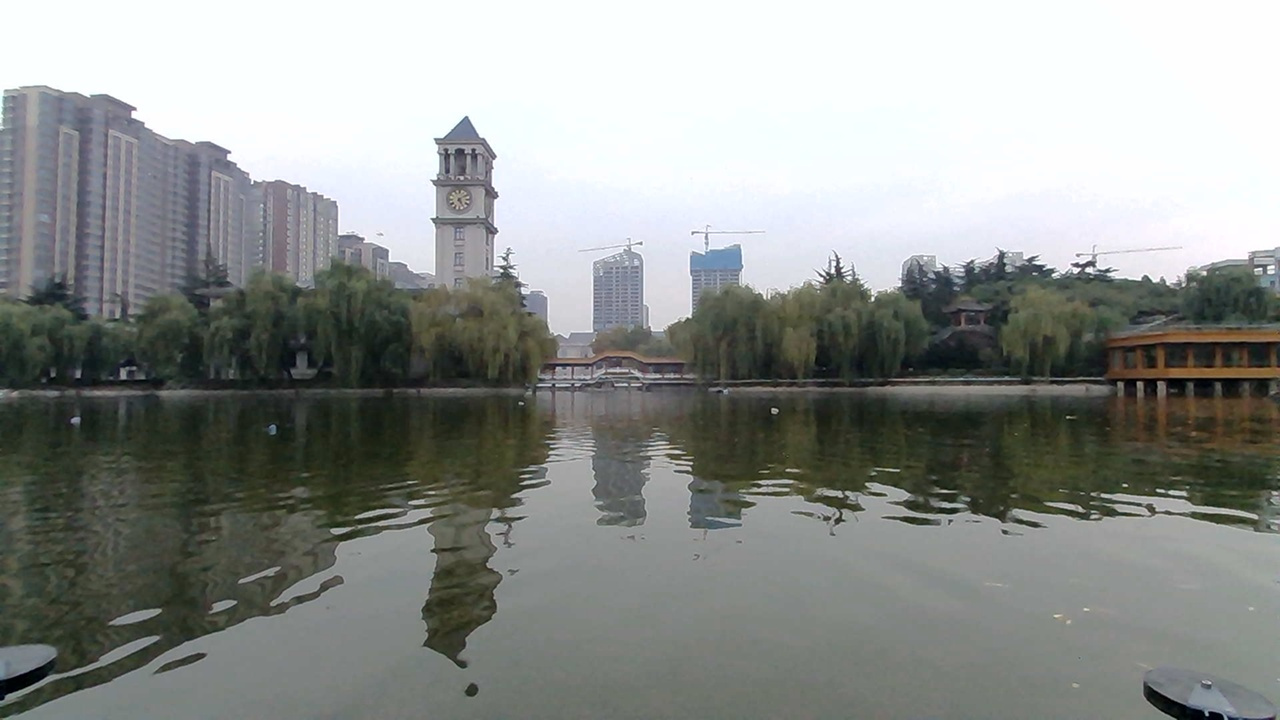bottle: (739, 398, 782, 422), (253, 419, 287, 441), (54, 405, 75, 433)
